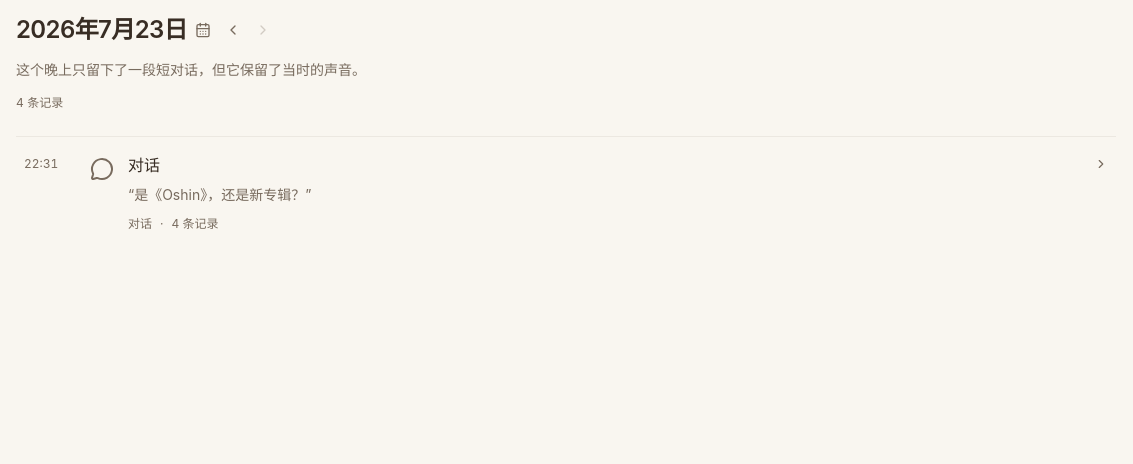
Test: DaySceneReader › closes the old evidence drawer when the selected day changes
Click the button "22:31 对话 “是《Oshin》，还是新专辑？” 对话 · 4 条记录": (41, 164) [16,137,1116,249]
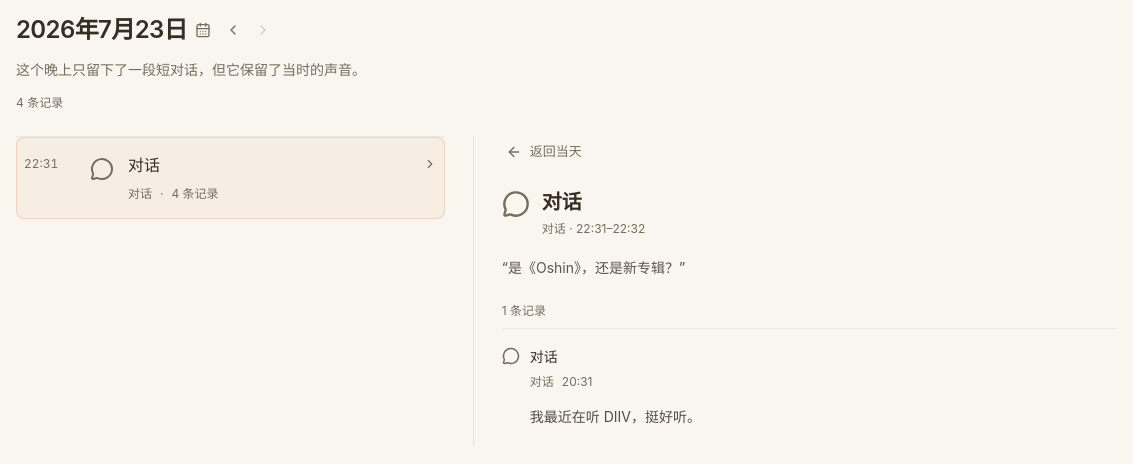
Expected: the element with test id "timeline-context-drawer" is shown, [473,136,1116,446]
